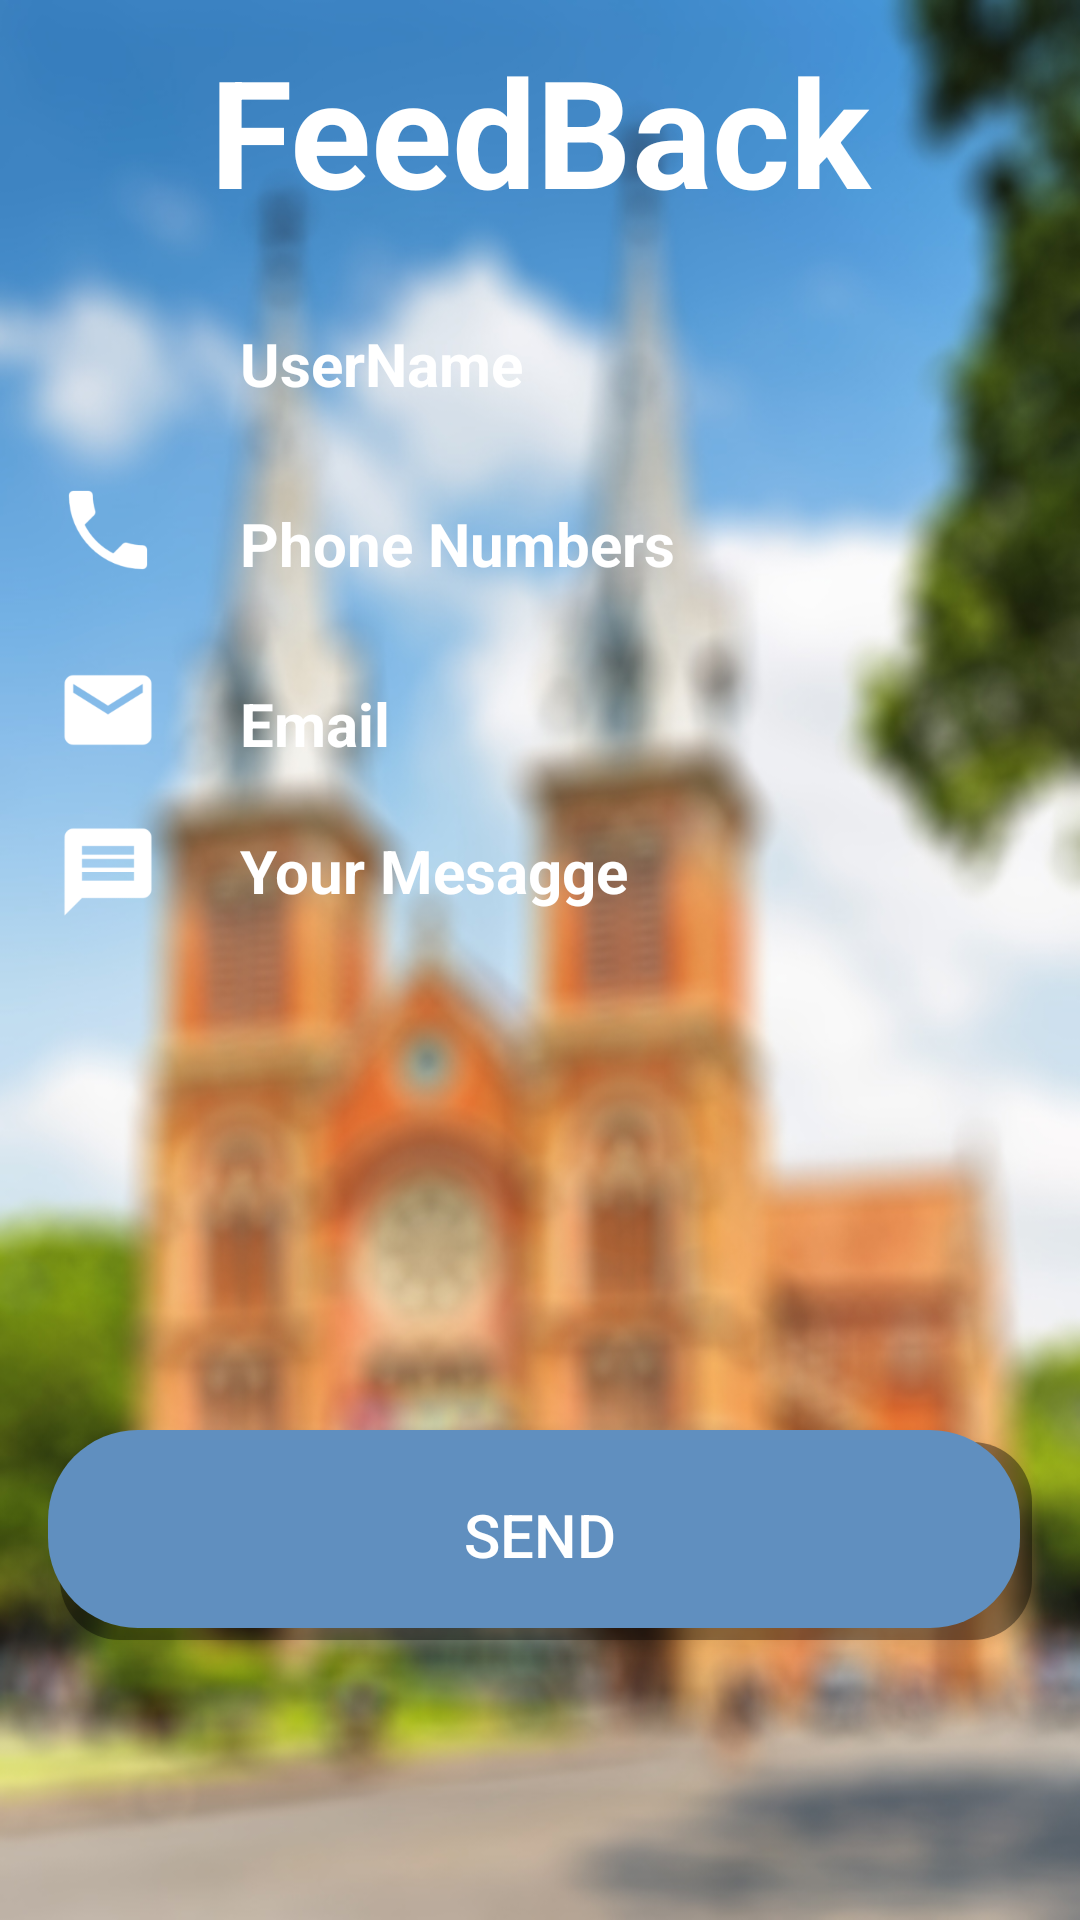

Named icons in this screenshot (1080px×1920px) and their centers, (x,y):
call: (108,530)
mess: (108,872)
